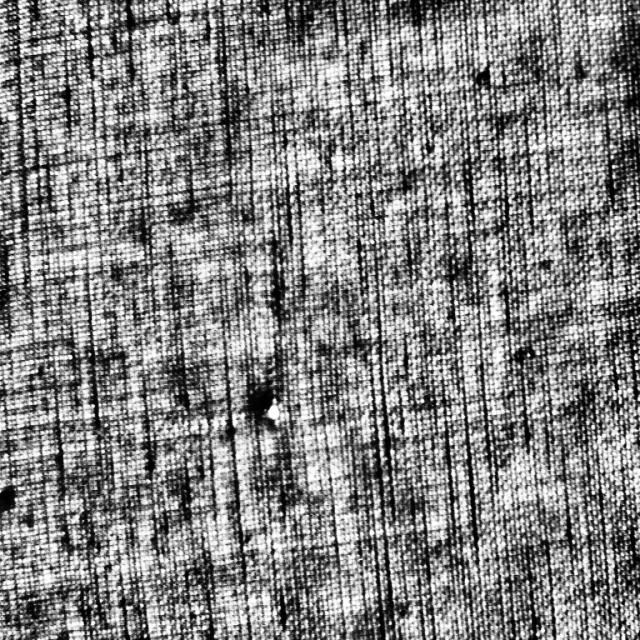Hole: (258, 392, 281, 428)
